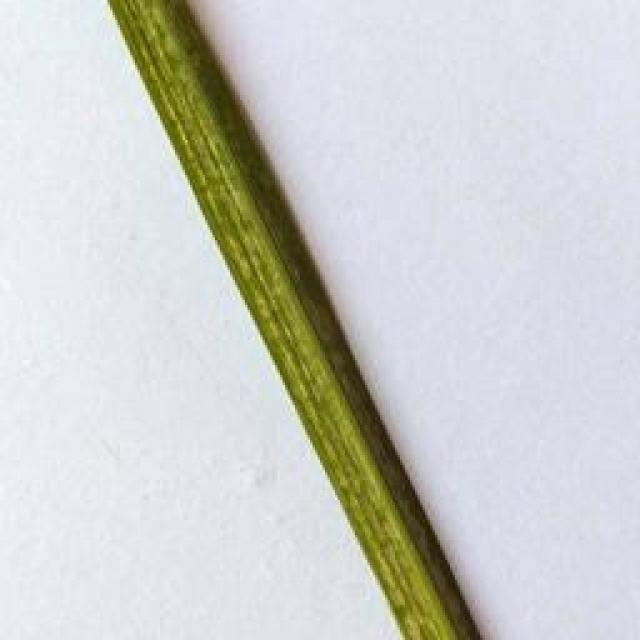Healthy-Plant: (110, 0, 483, 640)
